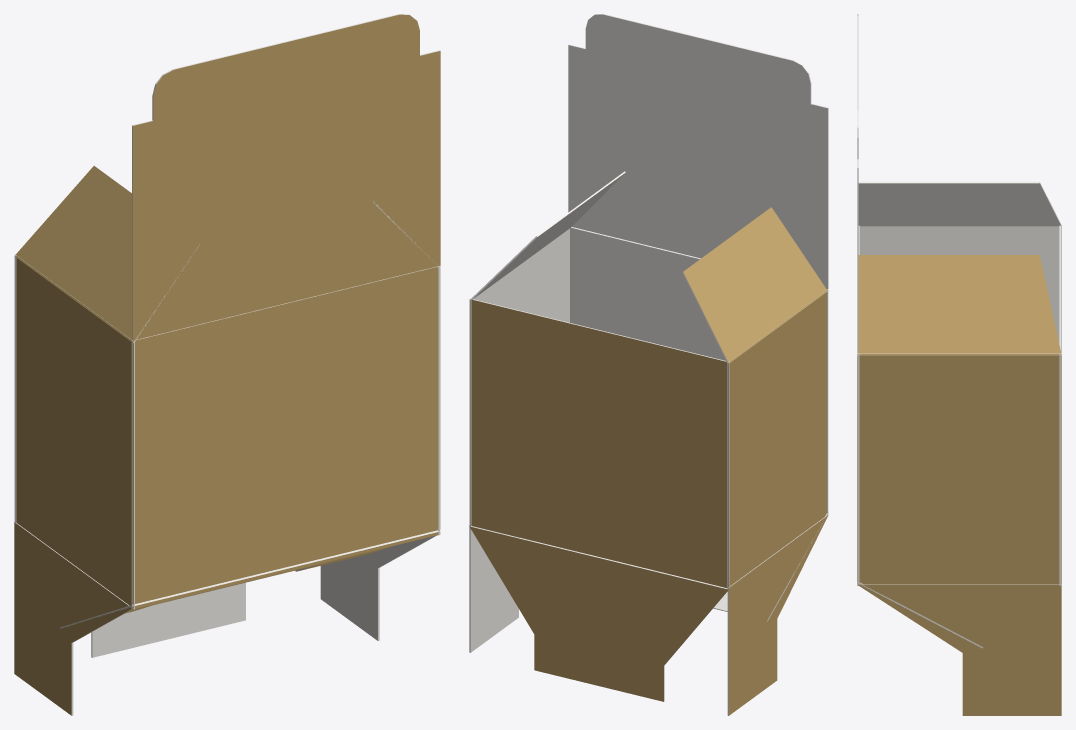
3 views of the same model, side by side, from view 1: azimuth 30°, elevation 25°; view 2: azimuth 150°, elevation 25°; view 3: azimuth 270°, elevation 25° (orthographic). The views are drawn at different scales.
Visible parts, largest first — view 1: Packive_Box_fefco0215; view 2: Packive_Box_fefco0215; view 3: Packive_Box_fefco0215.
Boxes of the visible parts, x1,y1,x2,y2 form: Packive_Box_fefco0215: (14,14,440,715); Packive_Box_fefco0215: (469,14,828,715); Packive_Box_fefco0215: (857,14,1061,715).
Size of the model in its own units: 0.3 by 0.636 by 0.2.
26 materials, 13 textured.
